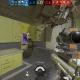Character: (25, 38, 34, 52)
Friend_label: (26, 33, 31, 37)
Head: (28, 38, 30, 39)
